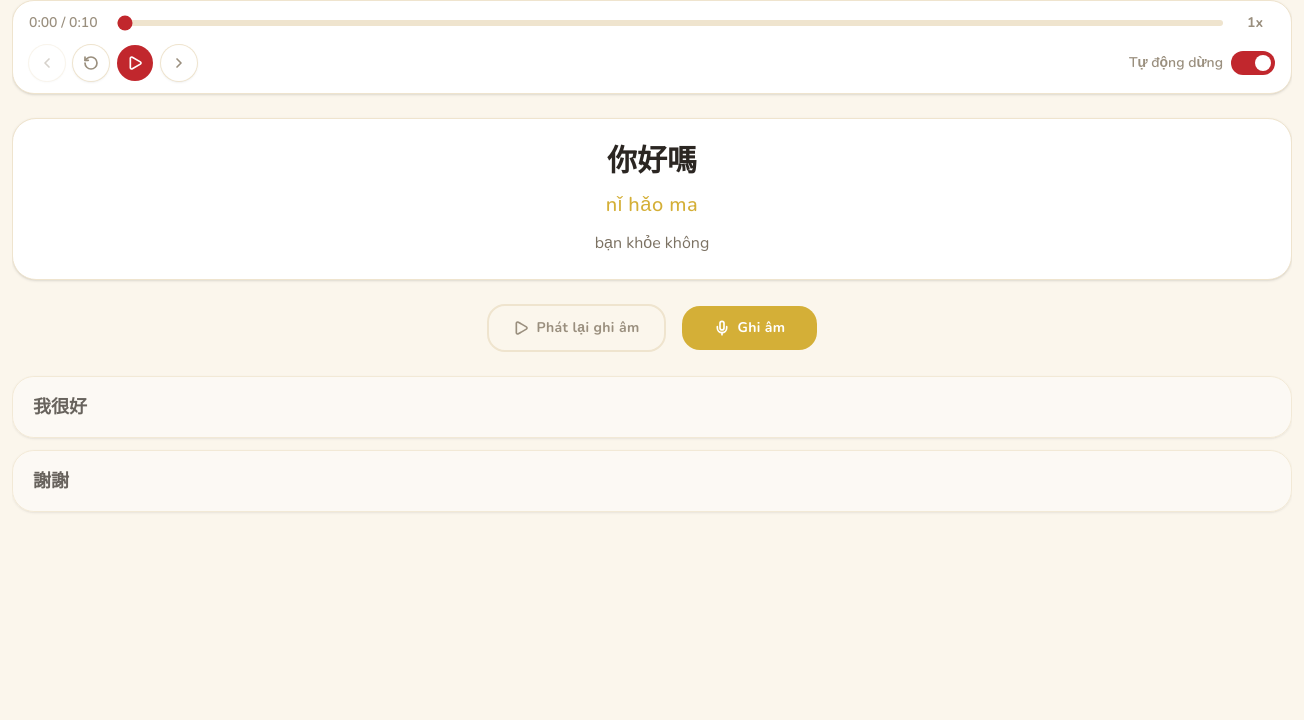
ShadowingScreen › does not crash when a line has no audio_url (duration treated as 0, play disabled for it)
Click the button named "Câu sau": (179, 63) [161,45,197,81]
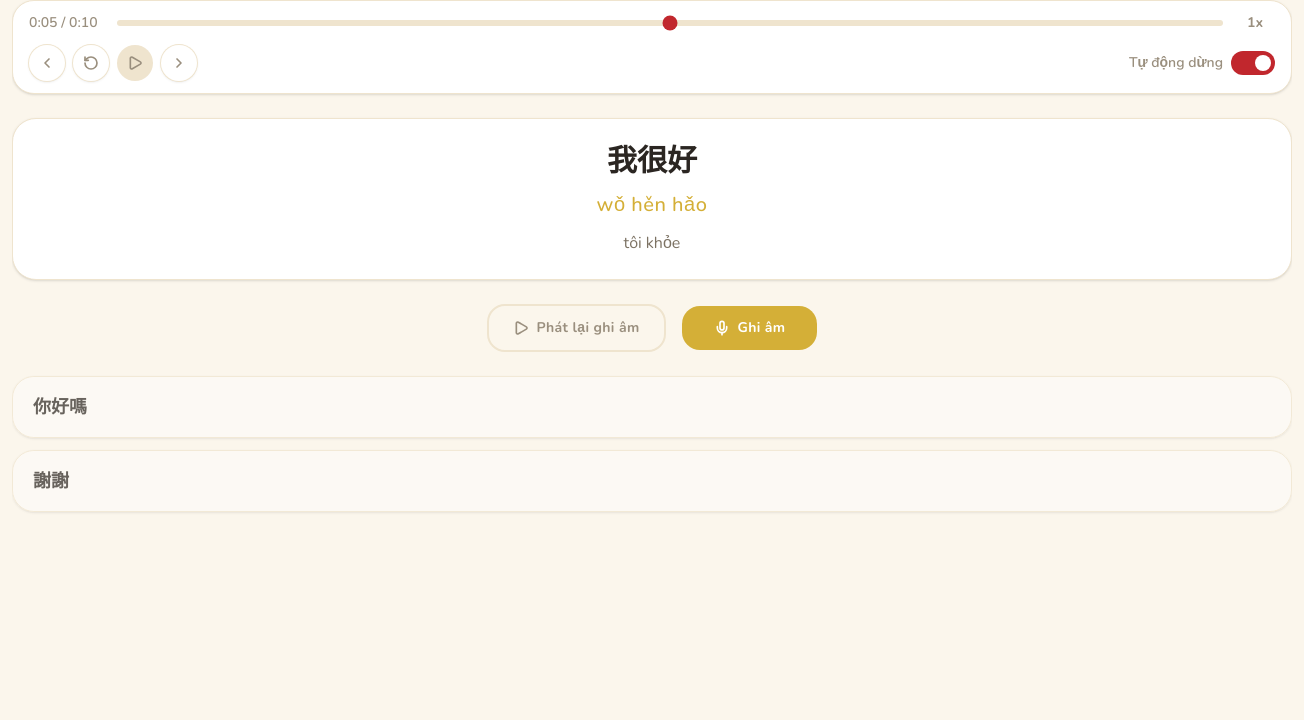
Expected: the heading "我很好" is shown, [607,144,697,177]
Expected: the button named "Nghe mẫu" is disabled, [117,45,153,81]
